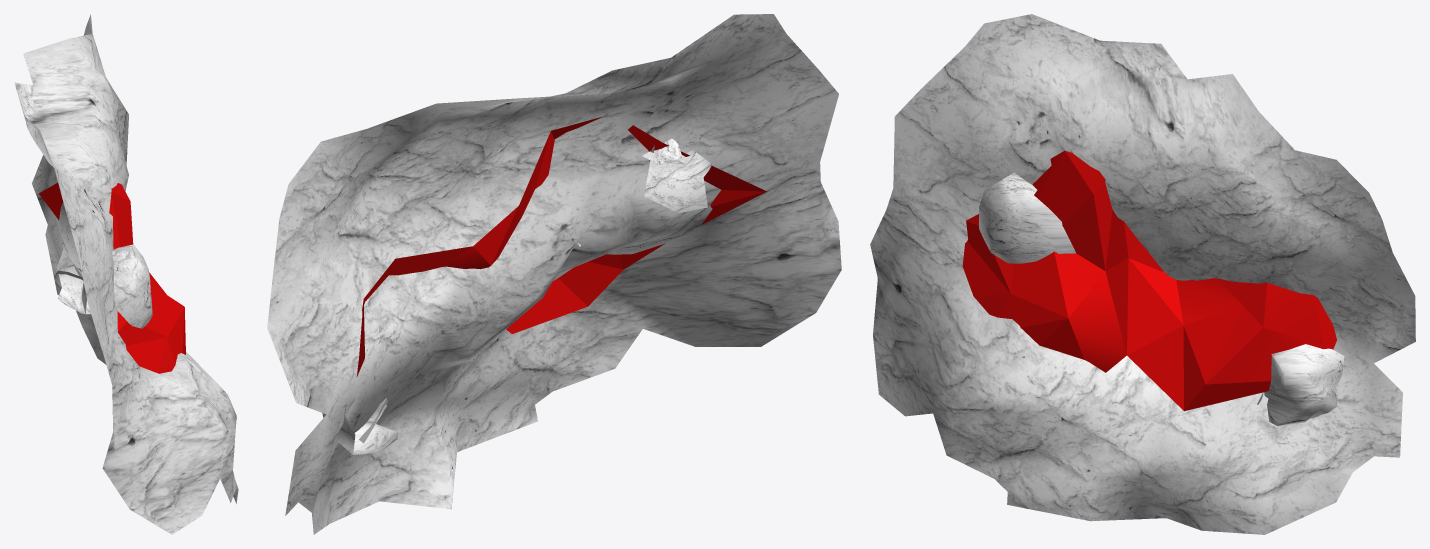
The model's file is Alt_Light_2_TOGETHER_curve_2.fbx.
3 renders of one model, left to right at view 1: azimuth 30°, elevation 25°; view 2: azimuth 150°, elevation 25°; view 3: azimuth 270°, elevation 25°, orthographic. The views are drawn at different scales.
Parts seen in each view (by area): view 1: ii_r, ii_e; view 2: ii_r, ii_e; view 3: ii_r, ii_e.
Boxes of the visible parts, x1,y1,x2,y2 form: ii_r: (14,14,238,534); ii_e: (39,182,185,373); ii_r: (267,14,841,534); ii_e: (356,116,766,377); ii_r: (870,14,1415,534); ii_e: (962,150,1336,411).
Size of the model in its own units: 34.42 by 54.55 by 64.47.
